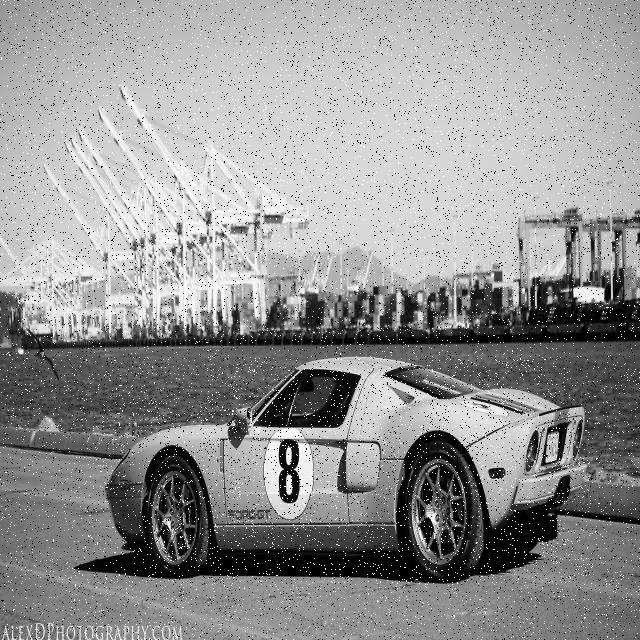Sedan: (105, 356, 589, 585)
